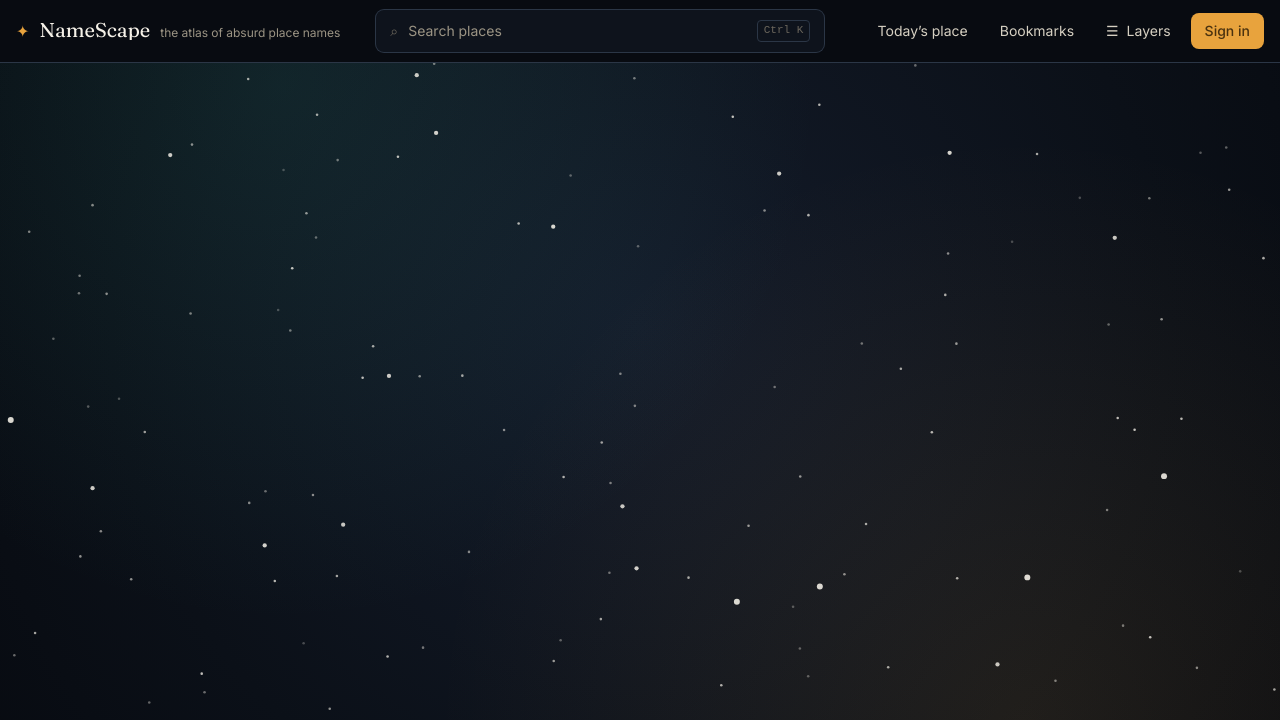
Scenario: a signed-out visitor reaches the claim form, not a sign-in wall
Step 1. Click the button "⌕ Search places Ctrl K" → x=455, y=30, box [376, 10, 824, 52]
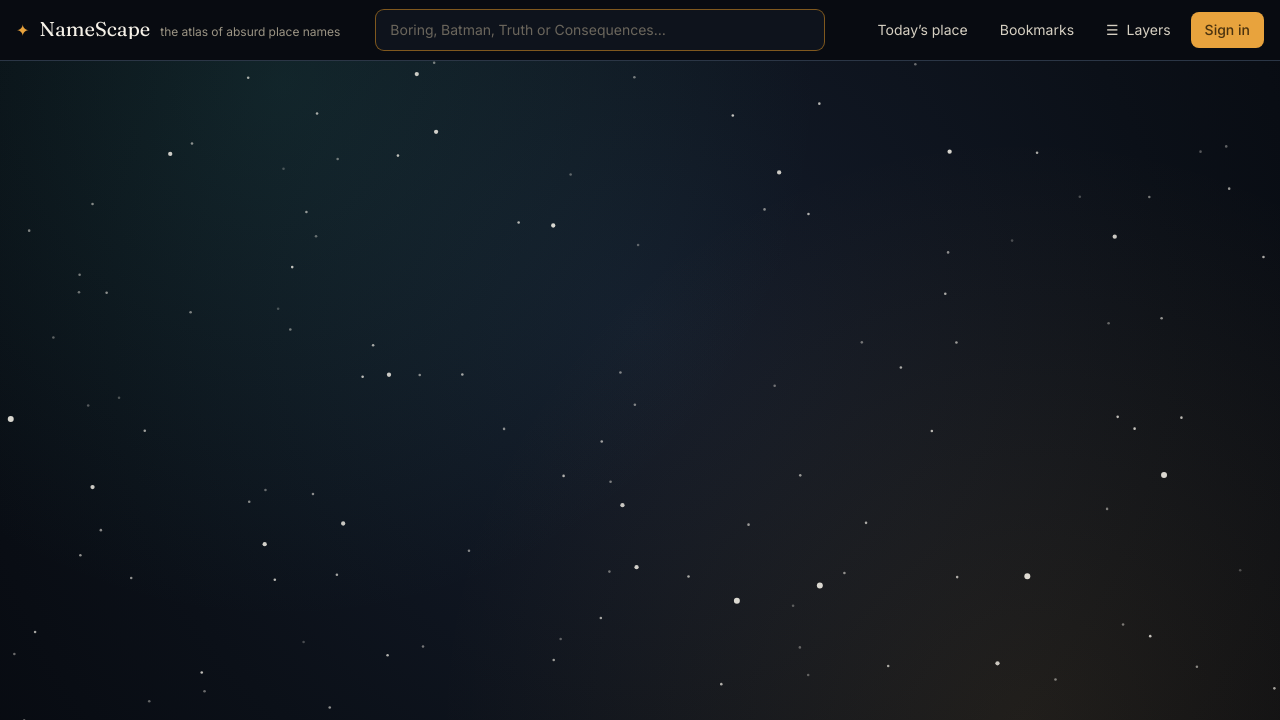
Step 2. Type "Dildo" into the dropdown → x=600, y=30, box [376, 10, 824, 50]
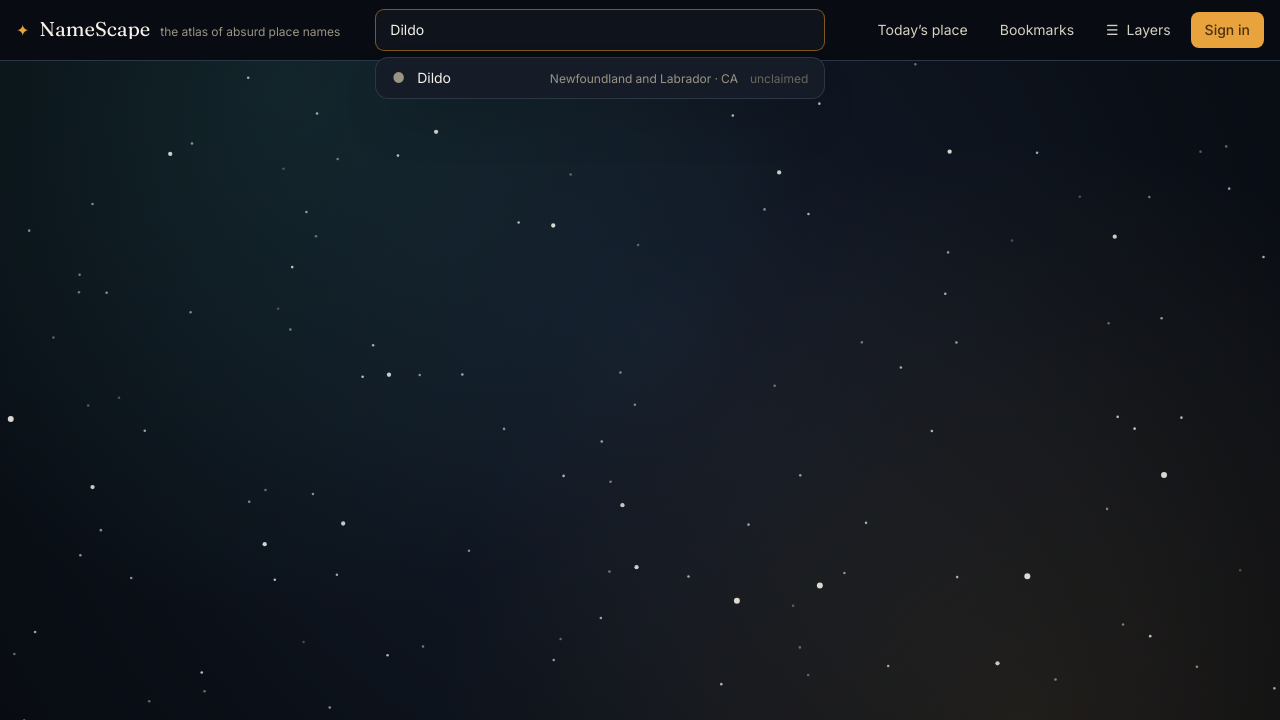
Step 3. Click the option "● Dildo Newfoundland and Labrador · CA unclaimed" → x=600, y=78, box [392, 69, 808, 86]
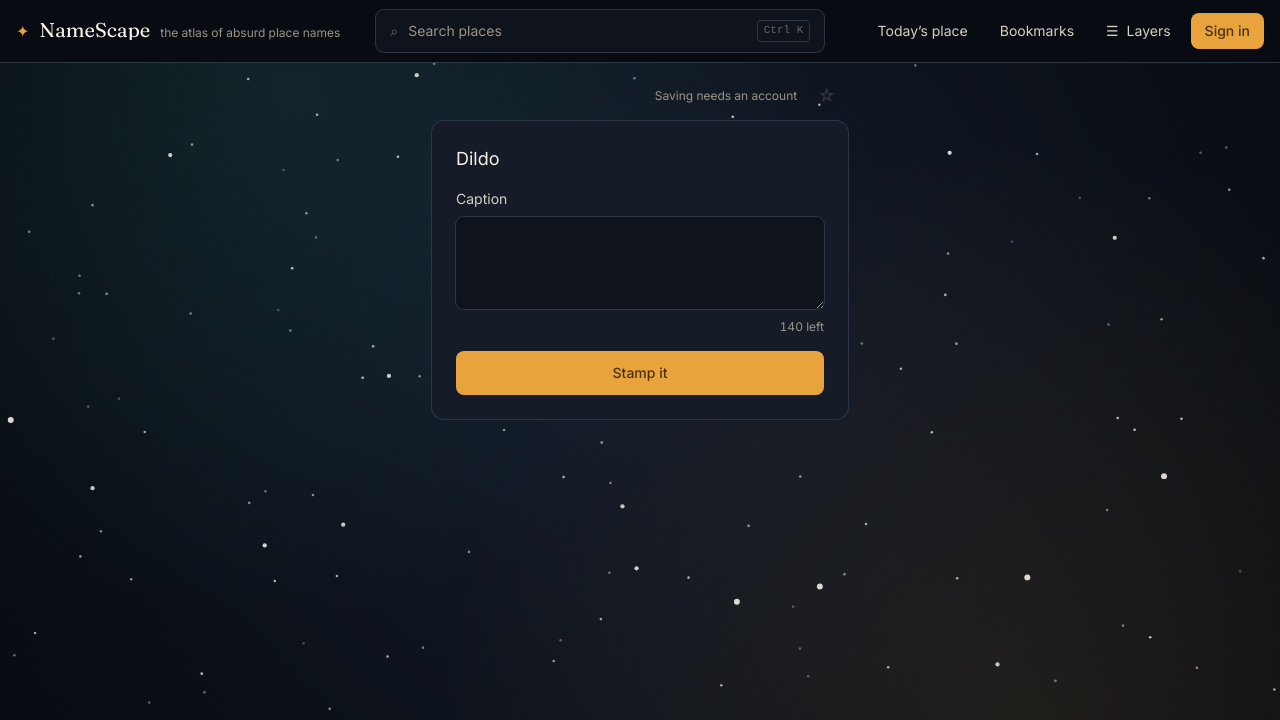
Result: the text box labelled "Caption" is shown at [456, 217, 824, 309]
